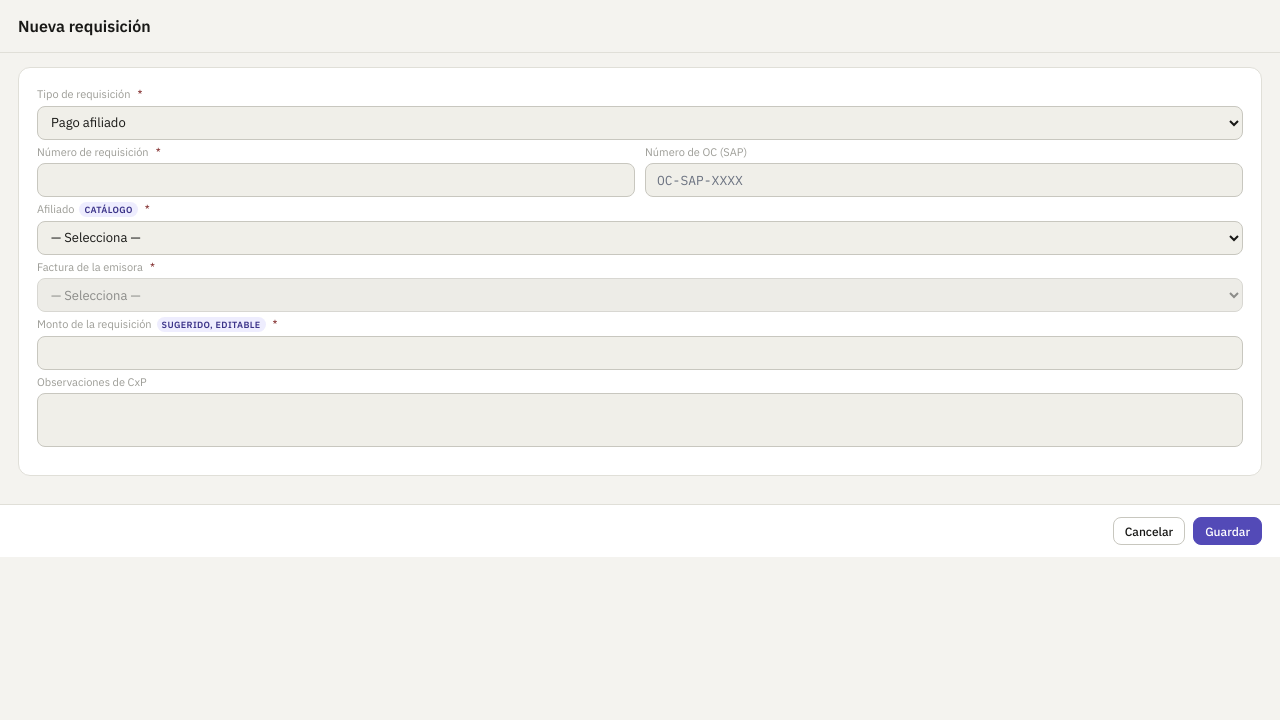
Test case: RequisicionForm: autollenado del monto al elegir una factura › pago_agencia: elegir la factura de la agencia pinta su total
Select "Pago agencia" in the 1st dropdown with class "fsel": (640, 122) [37, 106, 1243, 140]
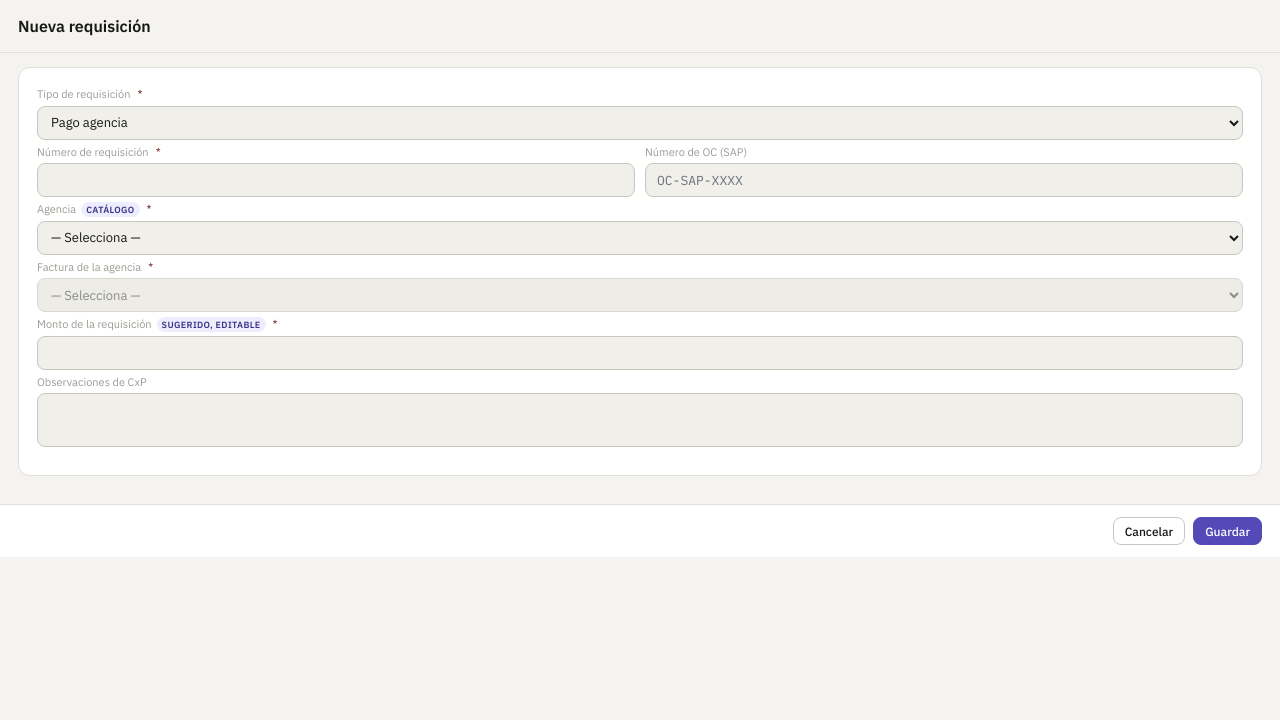
Select "Mindshare México" in the 2nd dropdown with class "fsel": (640, 238) [37, 220, 1243, 254]
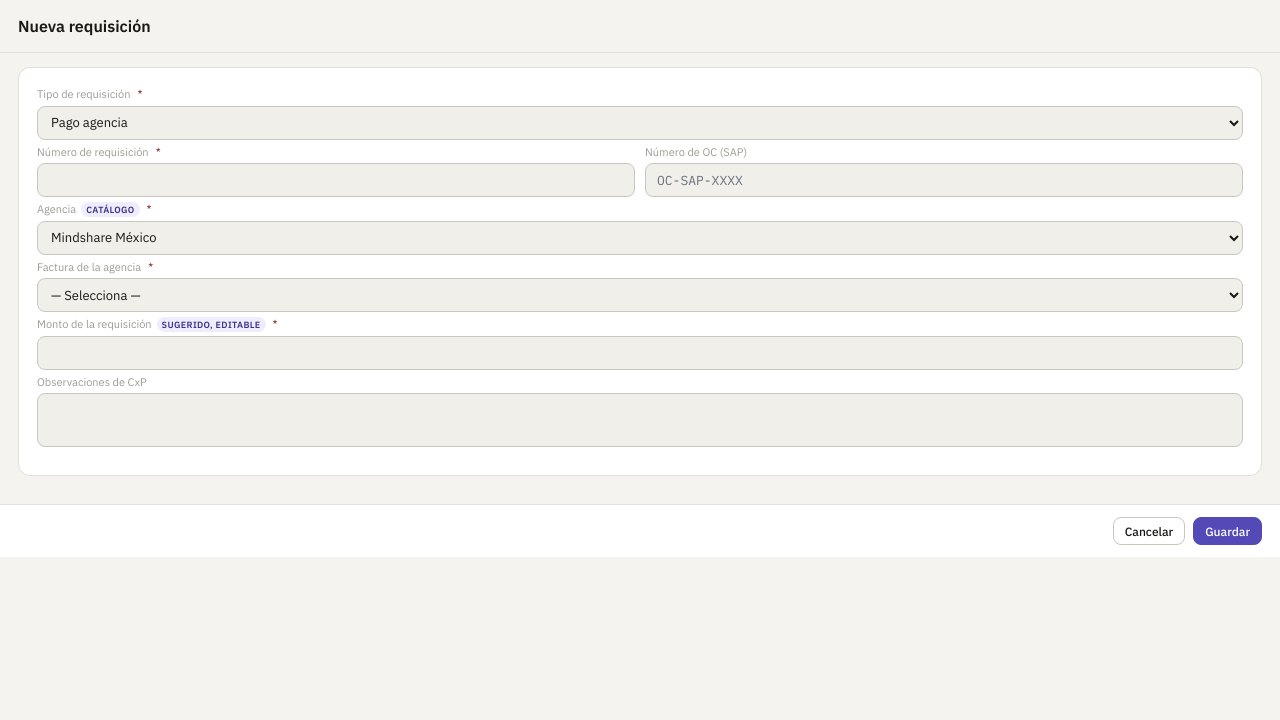
Select "AGE-009 · $704.70" in the 3rd dropdown with class "fsel": (640, 295) [37, 278, 1243, 312]
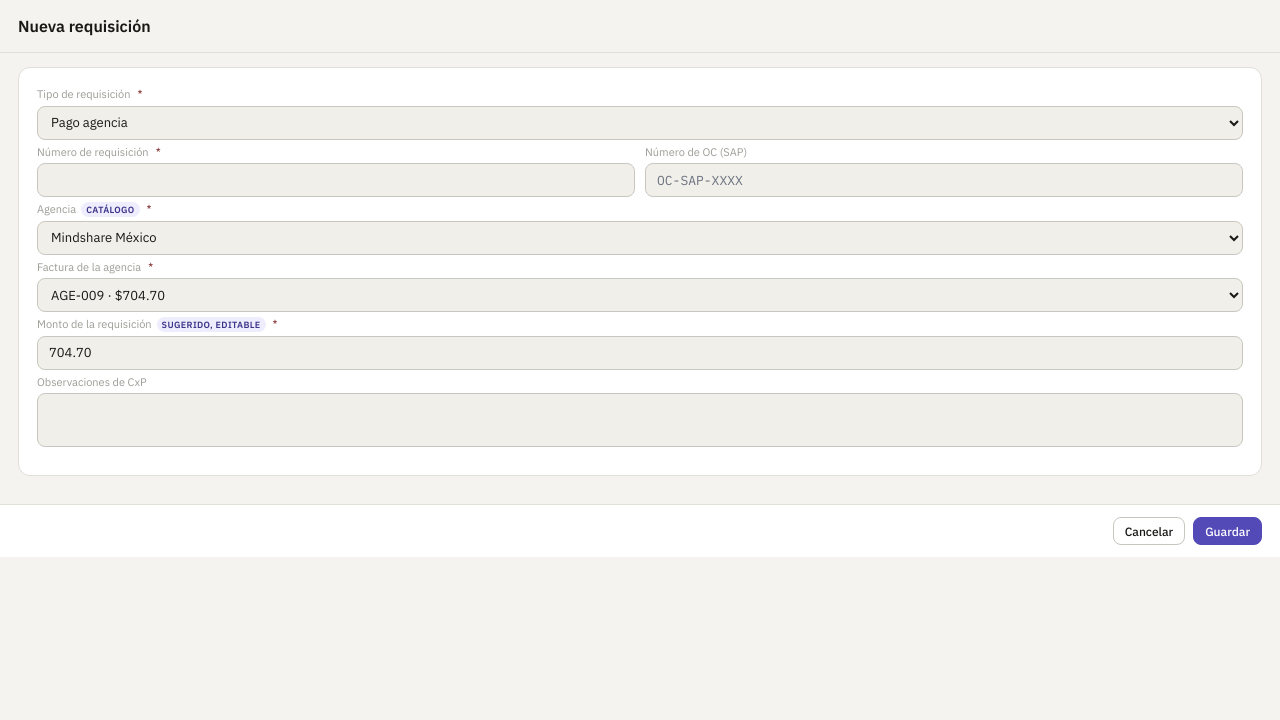
expect the 2nd field showing "704.70" is shown: met, box [37, 336, 1243, 370]
